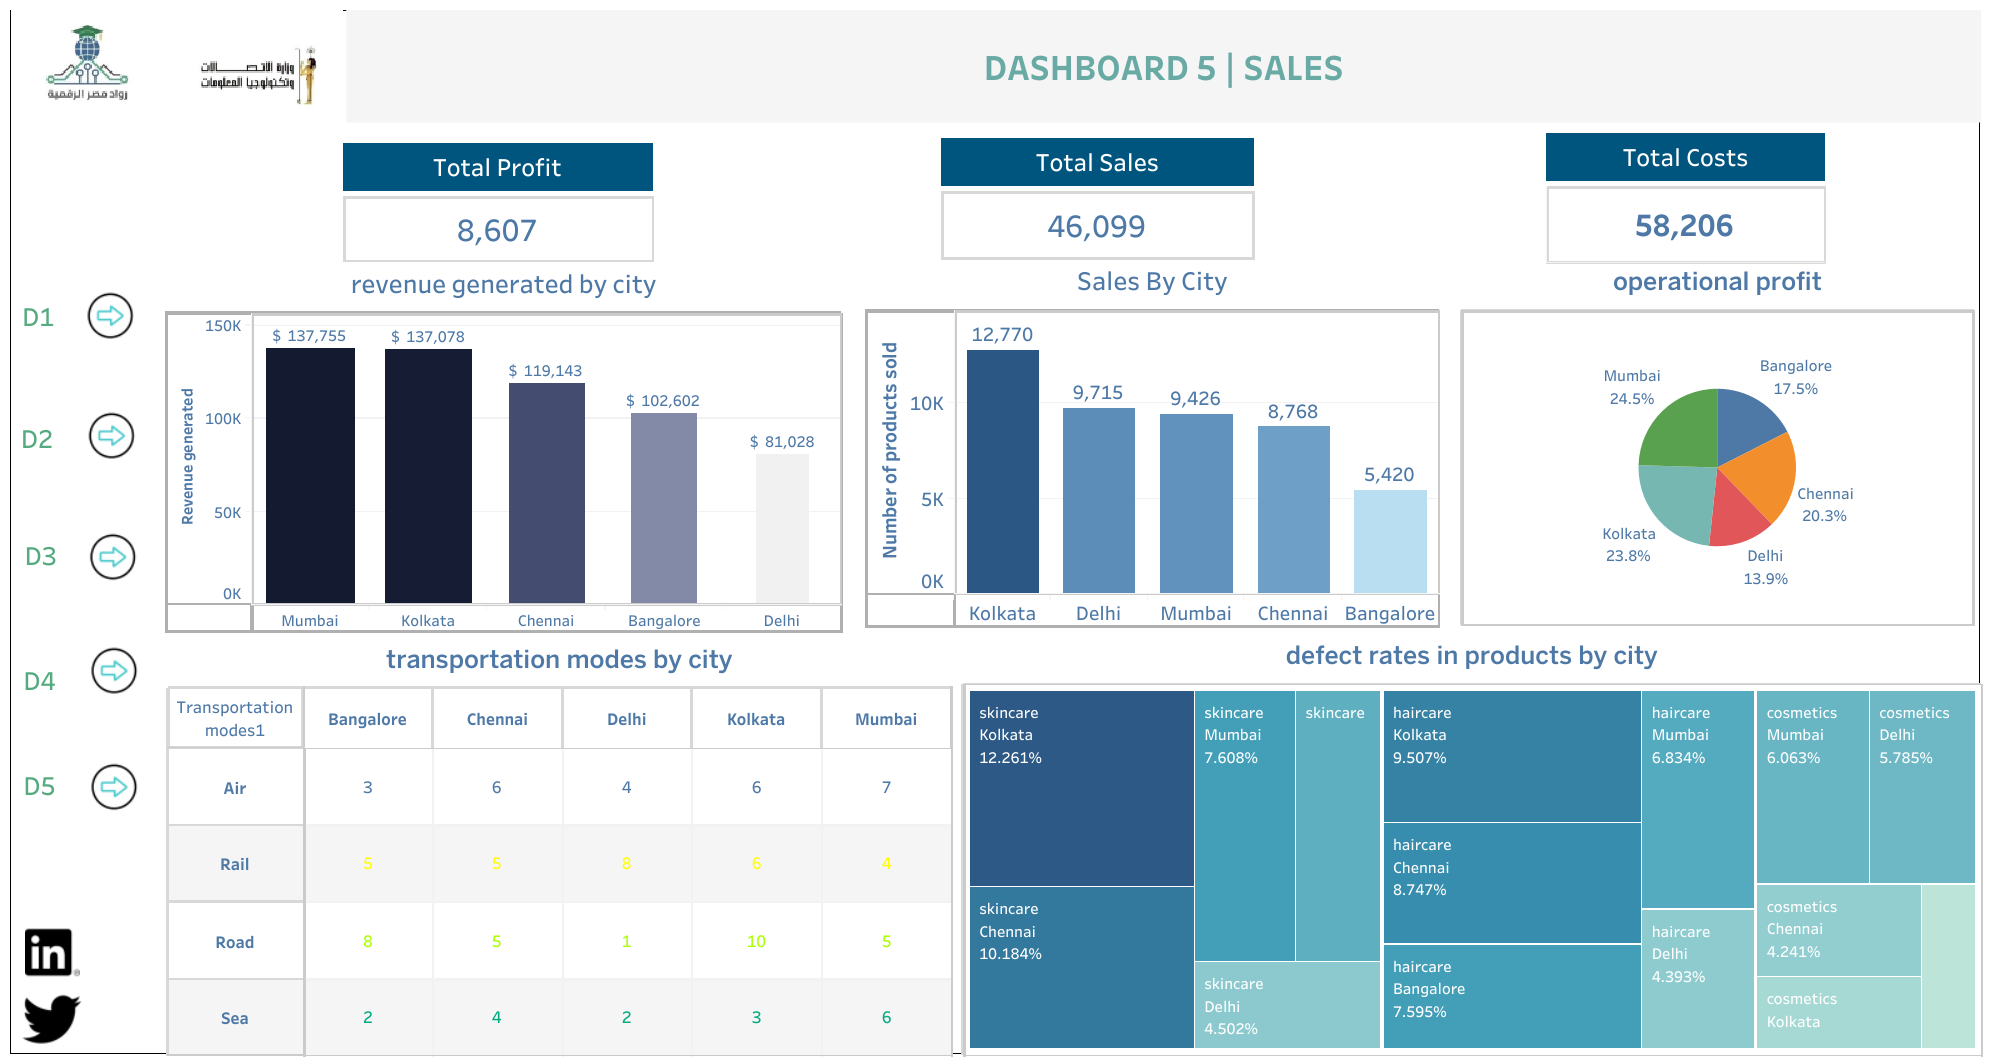

What the dashboard file says about the page in this screenshot:
{"tool":"tableau","page":{"name":"Dashboard 5","canvas":[1592,851],"ordinal":1},"visuals":[{"type":"image","param":"Image/WhatsApp Image 2024-10-15 at 16.45.00_ae13cb73.jpg","box":[9,7,265,98]},{"type":"text","box":[277,8,1308,90]},{"type":"worksheet","title":"total costs (Aabdelaziz 1,2)","mark":"Automatic","box":[1236,106,225,105]},{"type":"worksheet","title":"total sales (Aabdelaziz 1,2)","mark":"Automatic","box":[752,110,252,98]},{"type":"worksheet","title":"total profit (Aabdelaziz 1,2)","mark":"Automatic","box":[273,114,250,96]},{"type":"worksheet","title":"header (Aabdelaziz 1)","mark":"Automatic","rows":["Number of products sold"],"cols":["Location"],"box":[692,204,460,298]},{"type":"worksheet","title":"bar(Aabdelaziz 1)","mark":"Automatic","rows":["Revenue generated"],"cols":["Location"],"box":[132,206,542,300]},{"type":"worksheet","title":"pie(Aabdelaziz 1)","mark":"Pie","box":[1168,207,412,294]},{"type":"dashboard-object","box":[54,227,69,52]},{"type":"text","box":[15,235,44,35]},{"type":"dashboard-object","box":[55,323,68,52]},{"type":"text","box":[14,332,46,35]},{"type":"dashboard-object","box":[58,420,64,52]},{"type":"text","box":[17,426,48,35]},{"type":"worksheet","title":"tree (Aabdelaziz 1)","mark":"Automatic","box":[769,506,817,340]},{"type":"worksheet","title":"table (Aabdelaziz 1)","mark":"Automatic","rows":["Transportation modes"],"cols":["Location"],"box":[133,509,629,336]},{"type":"dashboard-object","box":[59,511,64,52]},{"type":"text","box":[16,526,48,35]},{"type":"dashboard-object","box":[56,604,70,52]},{"type":"text","box":[16,610,50,35]},{"type":"image","param":"Image/6422202.png","box":[20,740,46,44]},{"type":"image","param":"Image/6422210.png","box":[18,792,59,47]}]}

Visuals, with their boxes in screenshot pixels (x1, y1, x2, y2), scaled from the page's 1592x851 canvas onto the 1989x1063 screenshot:
image: 11:9:342:131
text: 346:10:1980:122
"total costs (Aabdelaziz 1,2)" worksheet: 1544:132:1825:264
"total sales (Aabdelaziz 1,2)" worksheet: 940:137:1254:260
"total profit (Aabdelaziz 1,2)" worksheet: 341:142:653:262
"header (Aabdelaziz 1)" worksheet: 865:255:1439:627
"bar(Aabdelaziz 1)" worksheet: 165:257:842:632
"pie(Aabdelaziz 1)" worksheet (Pie marks): 1459:259:1974:626
dashboard-object: 67:284:154:349
text: 19:294:74:337
dashboard-object: 69:403:154:468
text: 17:415:75:458
dashboard-object: 72:525:152:590
text: 21:532:81:576
"tree (Aabdelaziz 1)" worksheet: 961:632:1982:1057
"table (Aabdelaziz 1)" worksheet: 166:636:952:1056
dashboard-object: 74:638:154:703
text: 20:657:80:701
dashboard-object: 70:754:157:819
text: 20:762:82:806
image: 25:924:82:979
image: 22:989:96:1048
